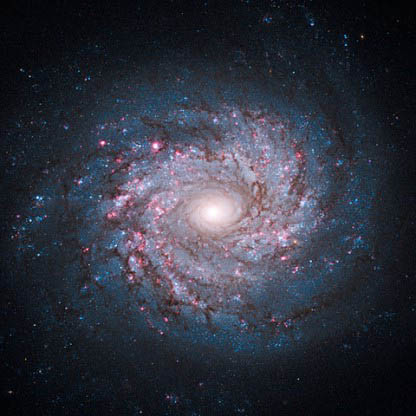NGC 3982: (37, 67, 379, 376)
